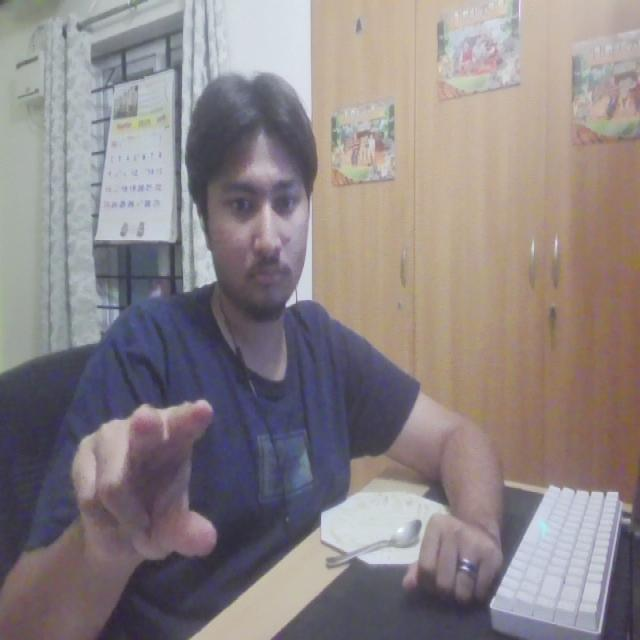no: (64, 391, 226, 578)
